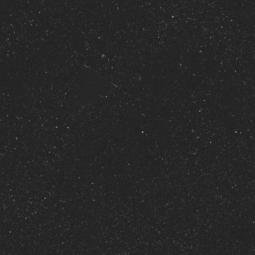debris: (66, 58, 124, 112)
